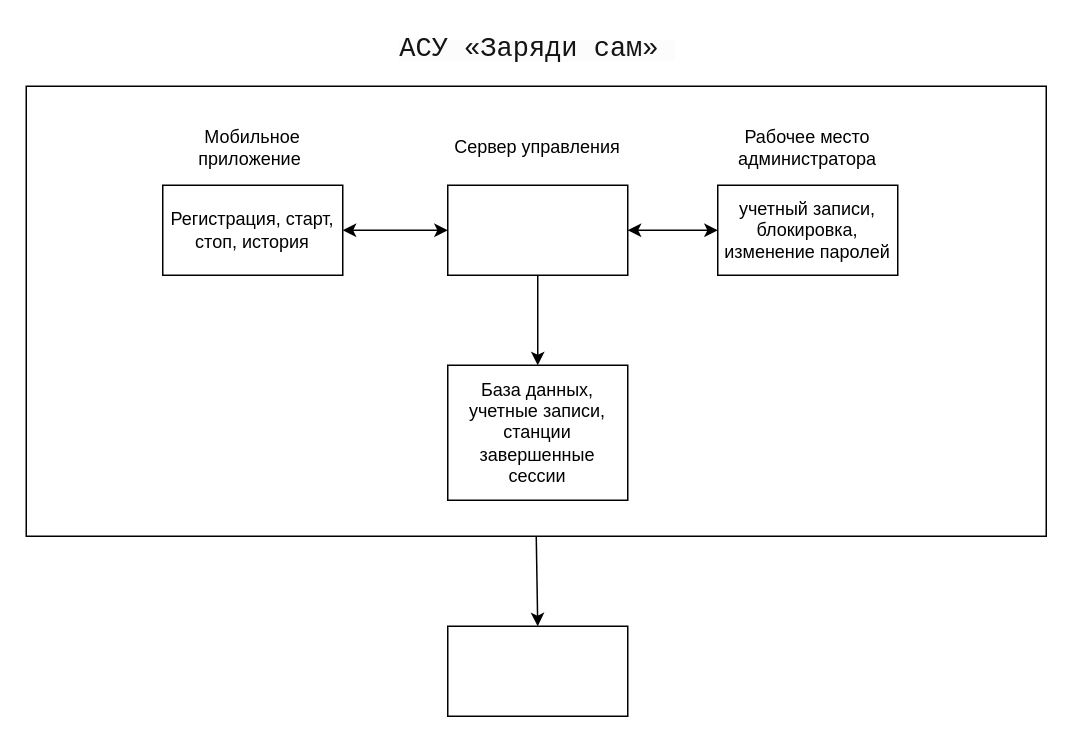
Image size: 1073x743. Some labels were removed from this diagram. The shapes that lost their labels are listed below. From the top down, each one's centre as x and y in pixels, then its label:
At pixel 537 229: "Команды, статус, история сессий, OCPP 2.0.1".
At pixel 537 670: "Зарядная станция (внешнее оборудовае)".
